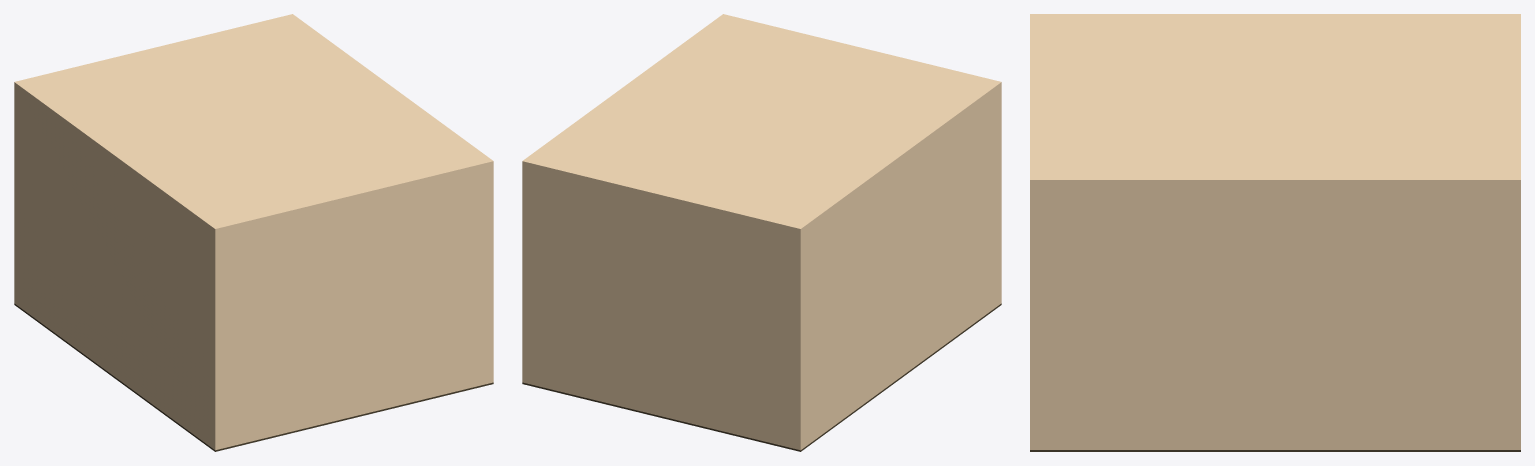
The model's file is workshop_env_color3.fbx.
3 renders of one model, left to right at view 1: azimuth 30°, elevation 25°; view 2: azimuth 150°, elevation 25°; view 3: azimuth 270°, elevation 25°, orthographic. The views are drawn at different scales.
Parts seen in each view (by area): view 1: wall1.001, wall1.004, wall1.002, floor; view 2: wall1, wall1.004, wall1.002, floor; view 3: wall1.003, wall1.004, floor.
Part boxes in pixels (box(x1,y1,x2,y2)): wall1.001: box(215, 161, 493, 450); wall1.004: box(15, 14, 493, 228); wall1.002: box(14, 82, 215, 449); floor: box(14, 303, 493, 451); wall1: box(522, 161, 800, 450); wall1.004: box(522, 14, 1000, 228); wall1.002: box(800, 82, 1001, 449); floor: box(522, 303, 1001, 451); wall1.003: box(1030, 180, 1520, 449); wall1.004: box(1030, 14, 1520, 179); floor: box(1030, 450, 1520, 451).
Bounding box in the file's own units: 1600 × 1223 × 2000.
